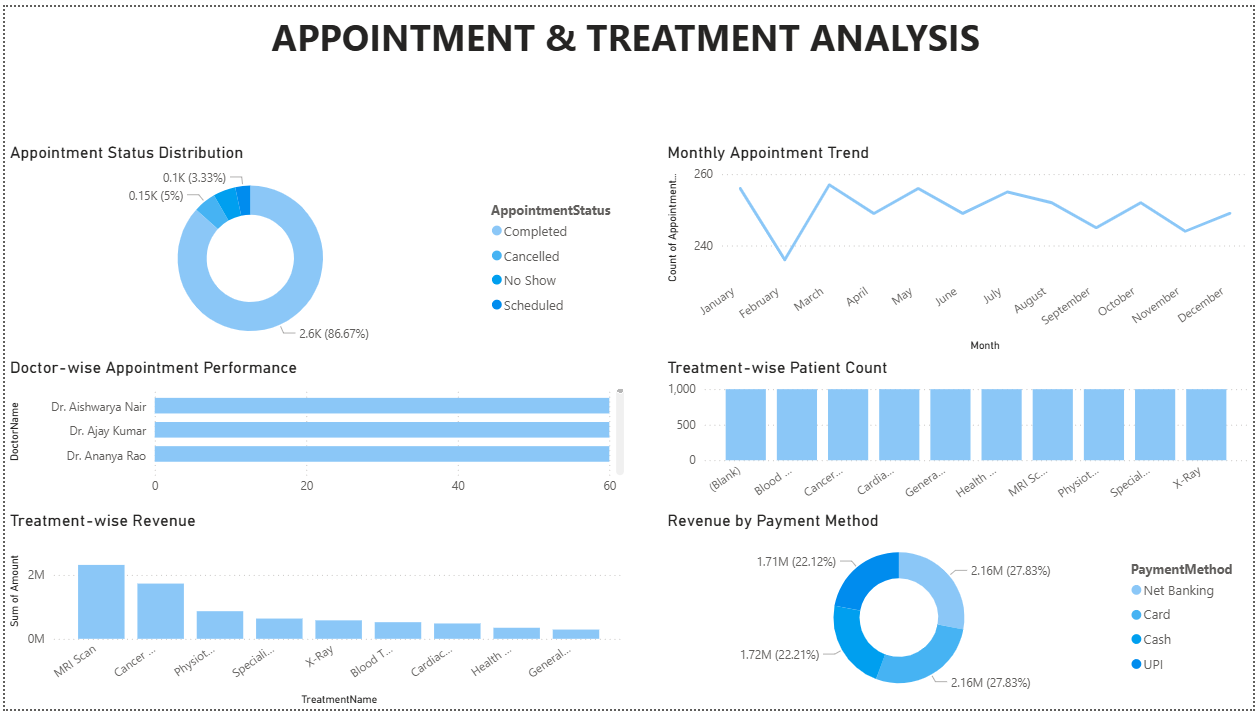

The page's visual inventory and layout, read from the dashboard file:
{"tool":"powerbi","page":{"name":"Appointment & Treatment Analysis","canvas":[1280,720],"ordinal":2},"visuals":[{"type":"donutChart","title":"Appointment Status Distribution","fields":{"Category":["healthcare_analysis appointments.AppointmentStatus"],"Y":["CountNonNull(healthcare_analysis appointments.AppointmentID)"]},"box":[0,138.4,639.5,219.8],"z":0},{"type":"lineChart","title":"Monthly Appointment Trend","fields":{"Category":["healthcare_analysis appointments.AppointmentDate.Variation.Date Hierarchy.Month"],"Y":["CountNonNull(healthcare_analysis appointments.AppointmentID)"]},"box":[674.7,138.8,605.3,219.8],"z":1000},{"type":"clusteredBarChart","title":"Doctor-wise Appointment Performance","fields":{"Category":["healthcare_analysis doctors.DoctorName"],"Y":["CountNonNull(healthcare_analysis appointments.AppointmentID)"]},"box":[0,358.6,640,150.4],"z":2000},{"type":"columnChart","title":"Treatment-wise Patient Count","fields":{"Category":["healthcare_analysis treatments.TreatmentName"],"Y":["CountNonNull(healthcare_analysis patients.PatientID)"]},"box":[674.7,358.6,605.3,158.1],"z":3000},{"type":"columnChart","title":"Treatment-wise Revenue","fields":{"Category":["healthcare_analysis treatments.TreatmentName"],"Y":["Sum(healthcare_analysis billing.Amount)"]},"box":[0,516.6,640,204.3],"z":4000},{"type":"donutChart","title":"Revenue by Payment Method","fields":{"Category":["healthcare_analysis billing.PaymentMethod"],"Y":["Sum(healthcare_analysis billing.Amount)"]},"box":[674.7,516.6,605.3,200.5],"z":5000},{"type":"textbox","box":[0,0,1280,100.2],"z":6000}]}

Visuals, with their boxes in screenshot pixels (x1, y1, x2, y2), scaled from the page's 1280x720 canvas onto the 1255x717 screenshot:
"Appointment Status Distribution" donutChart: [0, 138, 627, 357]
"Monthly Appointment Trend" lineChart: [662, 138, 1254, 357]
"Doctor-wise Appointment Performance" clusteredBarChart: [0, 357, 628, 507]
"Treatment-wise Patient Count" columnChart: [662, 357, 1254, 515]
"Treatment-wise Revenue" columnChart: [0, 514, 628, 716]
"Revenue by Payment Method" donutChart: [662, 514, 1254, 714]
textbox: [0, 0, 1254, 100]
